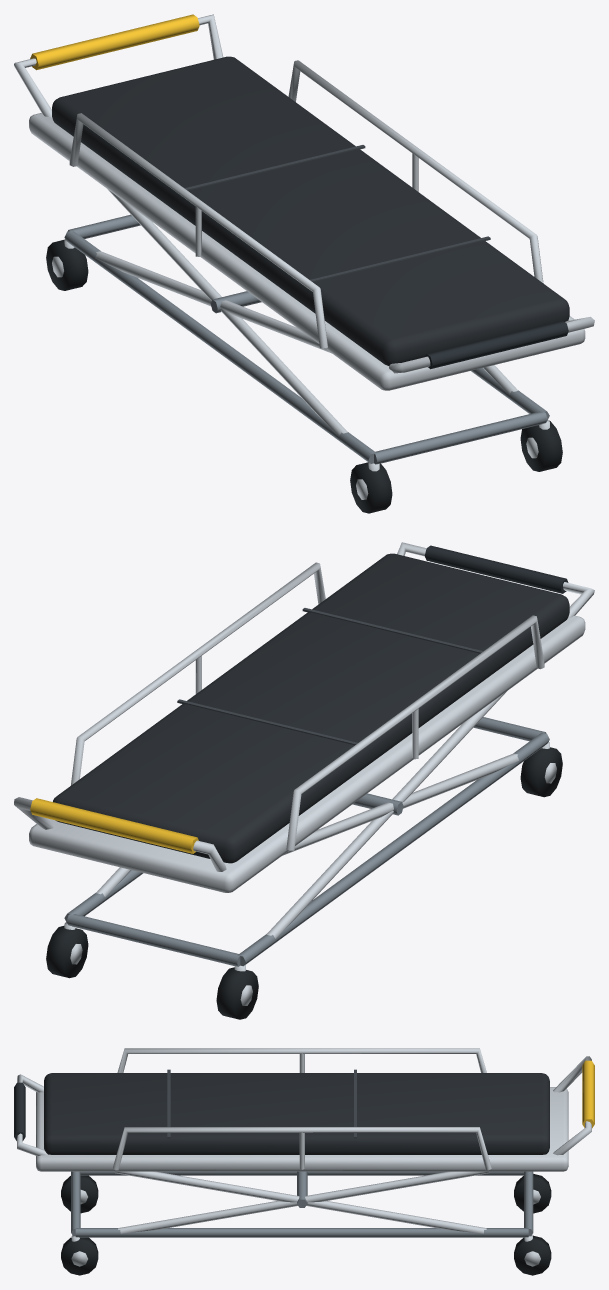
The model's file is stretcher.glb.
3 renders of one model, top to bottom at view 1: azimuth 30°, elevation 25°; view 2: azimuth 150°, elevation 25°; view 3: azimuth 270°, elevation 25°, orthographic. The views are drawn at different scales.
Parts seen in each view (by area): view 1: Main; view 2: Main; view 3: Main.
Boxes of the visible parts, x1,y1,x2,y2 form: Main: [14, 14, 594, 513]; Main: [14, 542, 594, 1019]; Main: [14, 1048, 594, 1275].
Size of the model in its own units: 0.726 by 0.6339 by 2.18.
